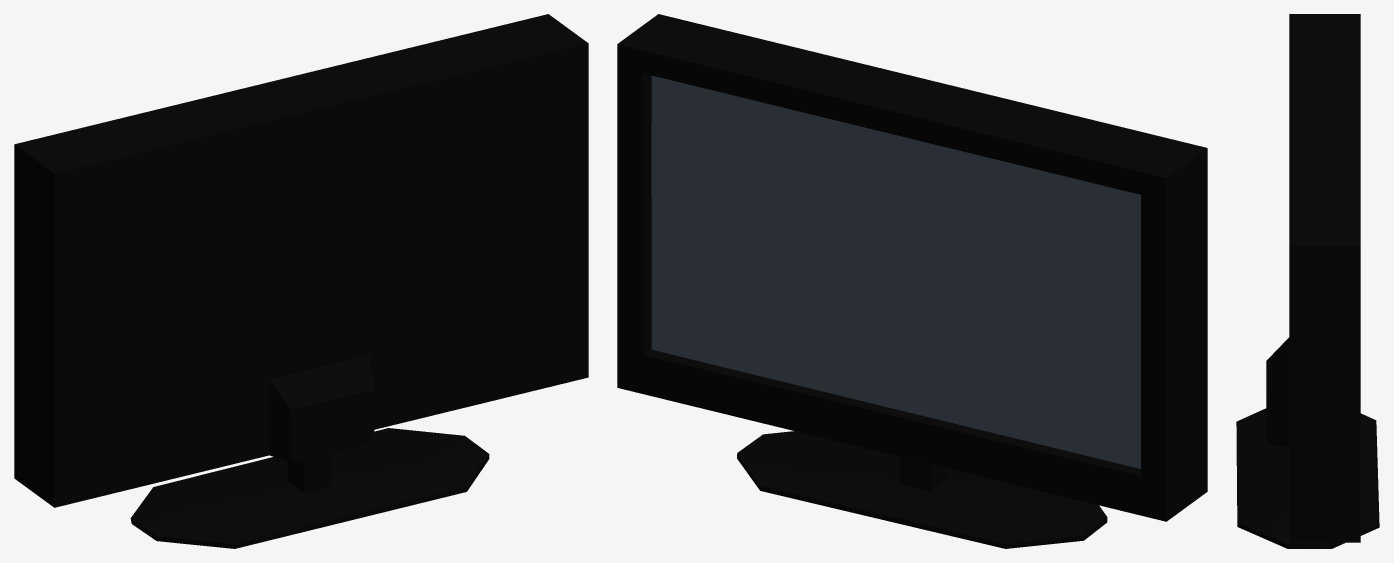
3 views of the same model, side by side, from view 1: azimuth 30°, elevation 25°; view 2: azimuth 150°, elevation 25°; view 3: azimuth 270°, elevation 25° (orthographic). The views are drawn at different scales.
Parts seen in each view (by area): view 1: pCube1; view 2: pCube1; view 3: pCube1.
Boxes of the visible parts, x1,y1,x2,y2 form: pCube1: [14, 14, 588, 548]; pCube1: [617, 14, 1207, 548]; pCube1: [1236, 14, 1379, 548].
Bounding box in the file's own units: 3.89 × 1.01 × 2.71.
Materials: 1 (1 with a texture image).
